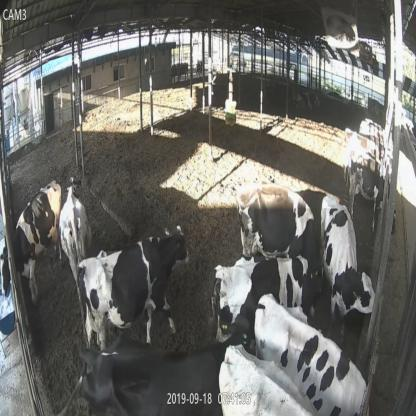cow: (78, 305, 254, 416), (78, 226, 188, 351), (255, 295, 368, 415), (237, 187, 316, 314), (211, 255, 313, 339), (220, 344, 321, 416), (315, 191, 375, 312), (13, 181, 61, 302), (59, 175, 90, 277), (348, 150, 384, 213), (293, 91, 318, 114)
